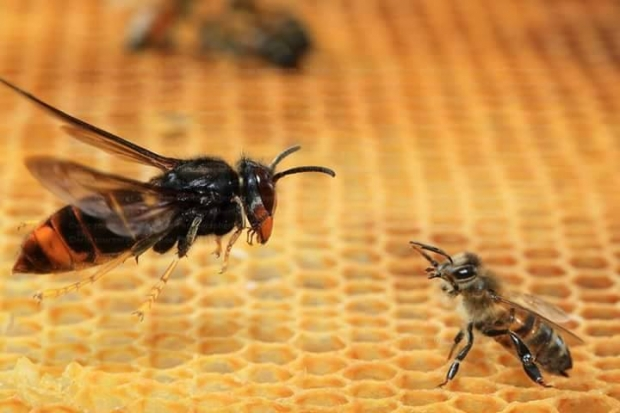bee: (414, 244, 577, 388)
hornet: (3, 116, 315, 299)
